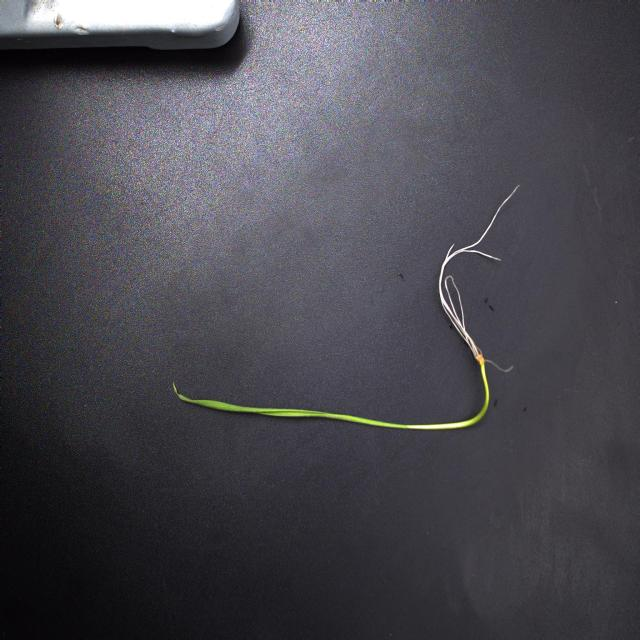leaf: (174, 383, 407, 429)
root: (439, 184, 520, 374), (445, 243, 501, 264)
stem: (406, 364, 490, 430)
